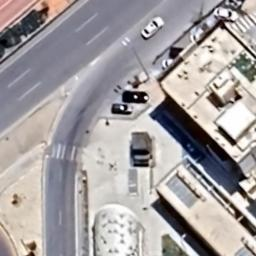sedan: (138, 14, 166, 42), (122, 88, 152, 106), (107, 99, 134, 117)
